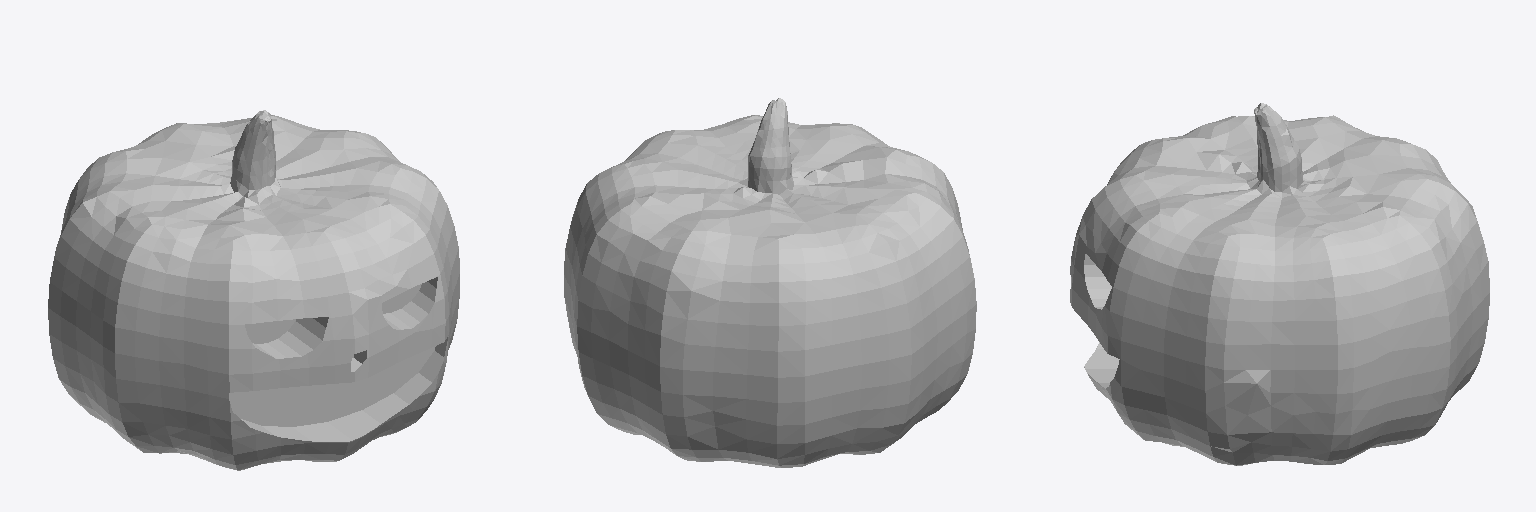
Rendered from Pumpkin.obj.
3 views of the same model, side by side, from view 1: azimuth 30°, elevation 25°; view 2: azimuth 150°, elevation 25°; view 3: azimuth 270°, elevation 25° (orthographic).
Parts seen in each view (by area): view 1: pSphere5; view 2: pSphere5; view 3: pSphere5.
Part boxes in pixels (x1,y1,x2,y2): pSphere5: (48,110,459,470); pSphere5: (564,98,976,467); pSphere5: (1070,103,1489,465).
Size of the model in its own units: 9.94 by 8.2 by 10.27.